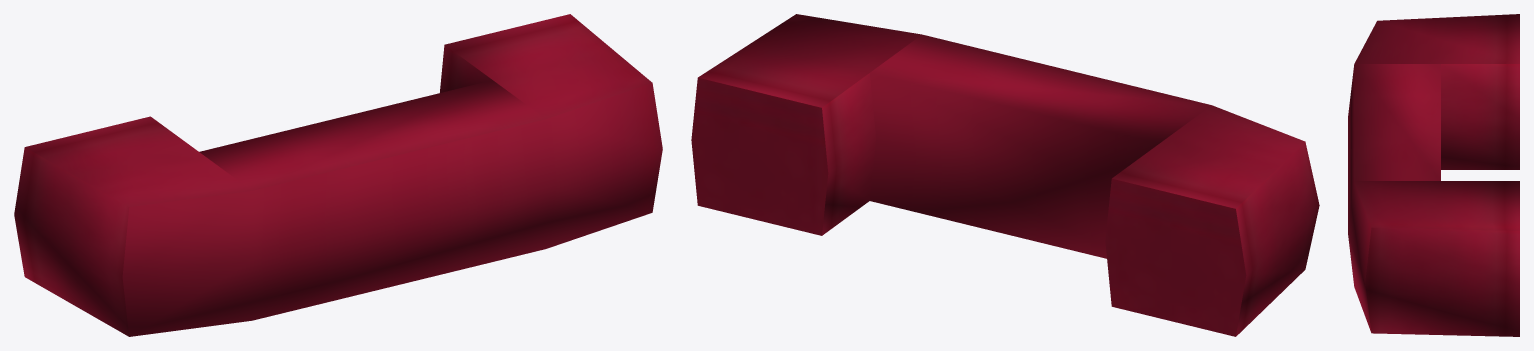
The model's file is receiver.glb.
The picture shows the model from 3 angles, left to right: view 1: azimuth 30°, elevation 25°; view 2: azimuth 150°, elevation 25°; view 3: azimuth 270°, elevation 25°; orthographic projection. The views are drawn at different scales.
Visible parts, largest first — view 1: receiver; view 2: receiver; view 3: receiver.
Part boxes in pixels (x1,y1,x2,y2): receiver: (14,14,662,336); receiver: (691,14,1319,336); receiver: (1348,14,1519,336).
Bounding box in the file's own units: 1.34 × 0.2957 × 0.4352.
Materials: 2 (2 with a texture image).
